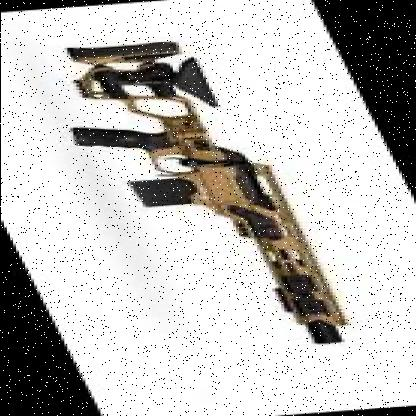rifle: (21, 31, 362, 356)
